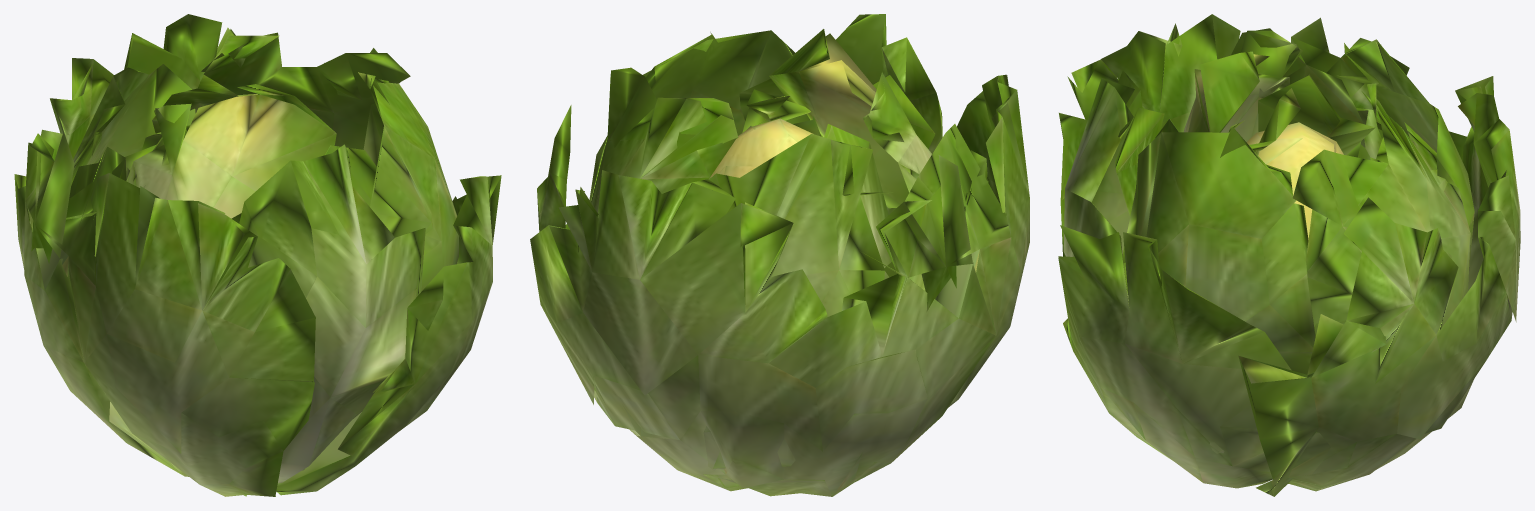
Rendered from crop-lettuce.glb.
3 renders of one model, left to right at view 1: azimuth 30°, elevation 25°; view 2: azimuth 150°, elevation 25°; view 3: azimuth 270°, elevation 25°, orthographic. The views are drawn at different scales.
Parts seen in each view (by area): view 1: plant; view 2: plant; view 3: plant.
Part boxes in pixels (box(x1,y1,x2,y2)): plant: box(14, 14, 501, 496); plant: box(530, 14, 1029, 496); plant: box(1058, 14, 1520, 496).
Bounding box in the file's own units: 0.25 × 0.2462 × 0.2489.
1 material, 1 textured.
